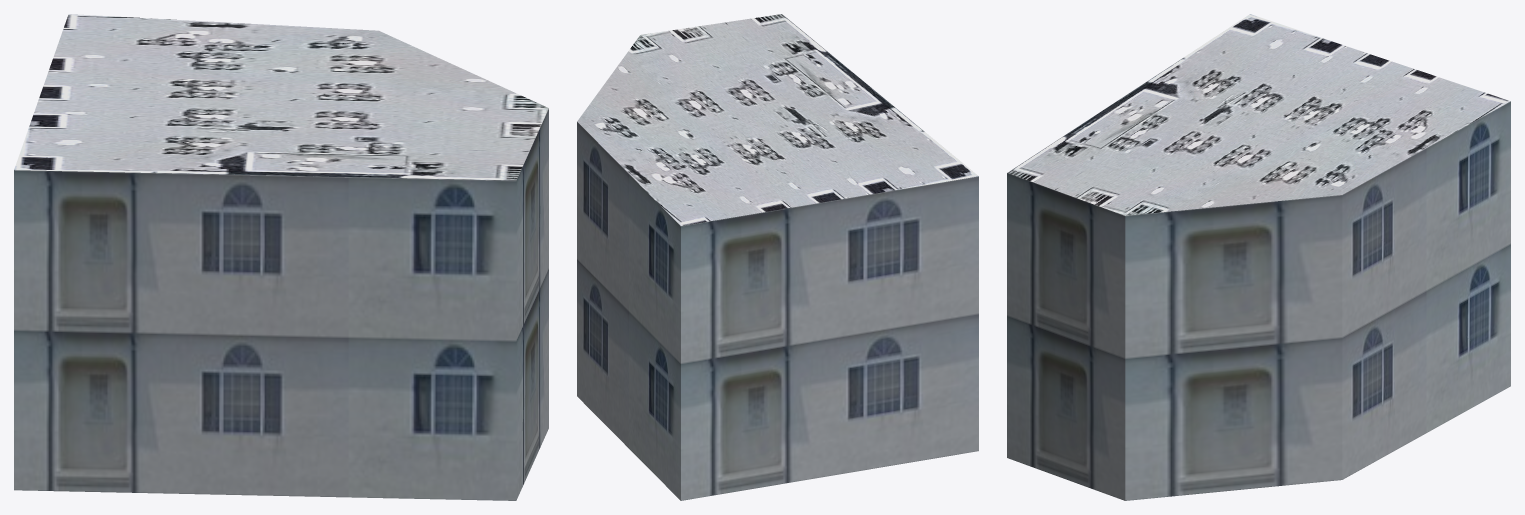
Rendered from ResTex__4311.fbx.
3 renders of one model, left to right at view 1: azimuth 30°, elevation 25°; view 2: azimuth 150°, elevation 25°; view 3: azimuth 270°, elevation 25°, orthographic. The views are drawn at different scales.
Visible parts, largest first — view 1: CityEngineMaterial_17_m, CityEngineMaterial_8_m; view 2: CityEngineMaterial_17_m, CityEngineMaterial_8_m; view 3: CityEngineMaterial_17_m, CityEngineMaterial_8_m.
Boxes of the visible parts, left/top/right/bottom form: CityEngineMaterial_17_m: left=14, top=108, right=548, bottom=500; CityEngineMaterial_8_m: left=14, top=14, right=548, bottom=180; CityEngineMaterial_17_m: left=577, top=122, right=978, bottom=500; CityEngineMaterial_8_m: left=577, top=14, right=978, bottom=225; CityEngineMaterial_17_m: left=1007, top=101, right=1510, bottom=500; CityEngineMaterial_8_m: left=1007, top=14, right=1510, bottom=215.
Bounding box in the file's own units: 9.11 × 6 × 9.61.
2 materials, 2 textured.
